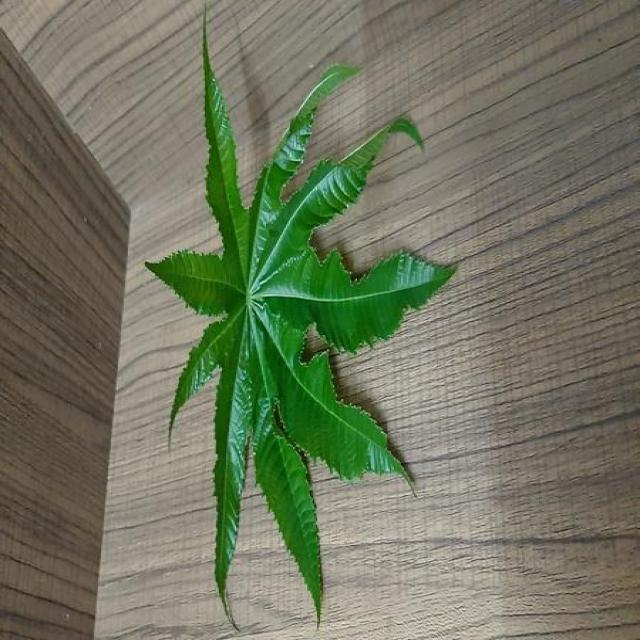castor: (147, 21, 455, 617)
